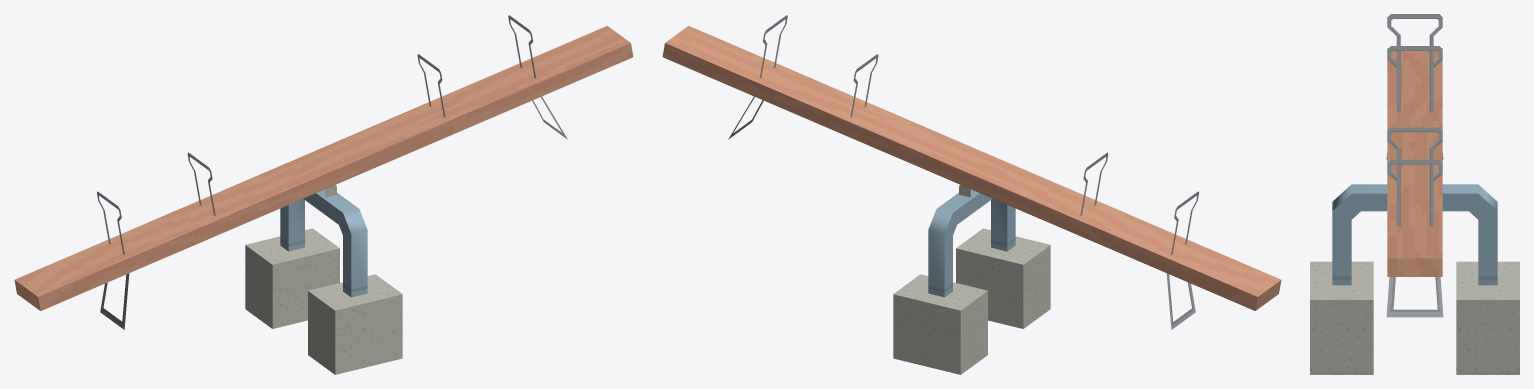
The model's file is 013f_See-saw.glb.
3 renders of one model, left to right at view 1: azimuth 30°, elevation 25°; view 2: azimuth 150°, elevation 25°; view 3: azimuth 270°, elevation 25°, orthographic. The views are drawn at different scales.
Parts seen in each view (by area): view 1: part_0; view 2: part_0; view 3: part_0.
Part boxes in pixels (box(x1,y1,x2,y2)): part_0: box(14, 15, 633, 374); part_0: box(662, 15, 1281, 374); part_0: box(1310, 14, 1519, 374).
Size of the model in its own units: 3.2 by 1.35 by 0.8371.
Materials: 1 (1 with a texture image).
